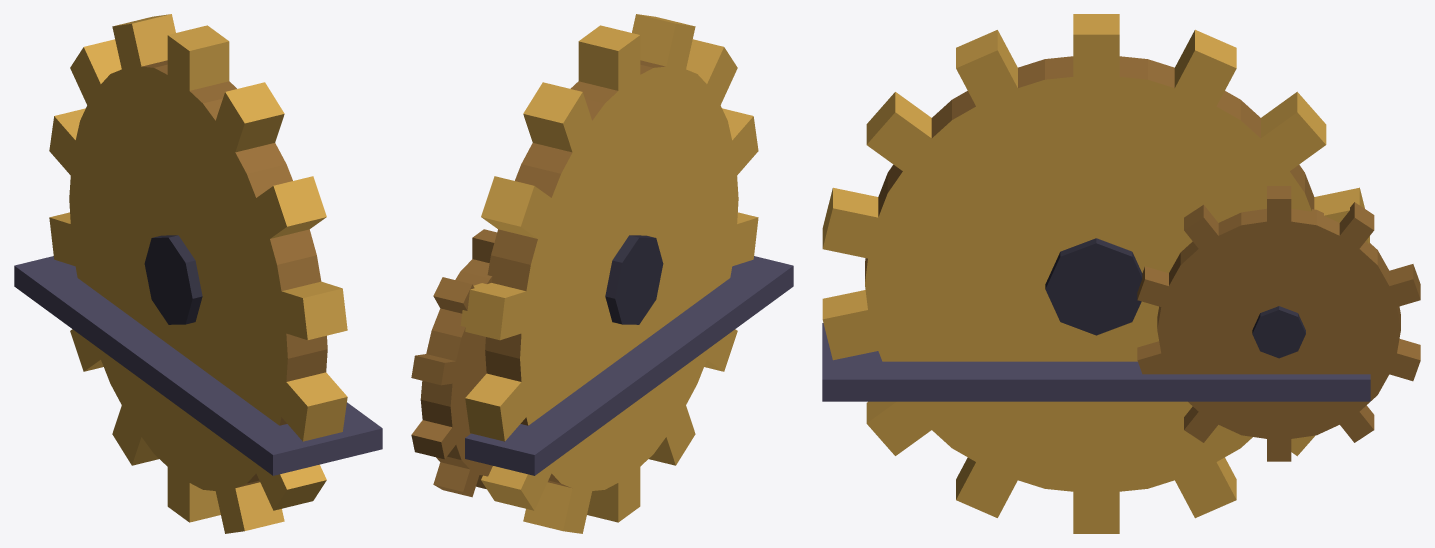
Rendered from Set_GearArch.fbx.
3 views of the same model, side by side, from view 1: azimuth 30°, elevation 25°; view 2: azimuth 150°, elevation 25°; view 3: azimuth 270°, elevation 25° (orthographic). The views are drawn at different scales.
Visible parts, largest first — view 1: Set_GearArch; view 2: Set_GearArch; view 3: Set_GearArch.
Part boxes in pixels (<box>): Set_GearArch: <box>14,14,382,533</box>; Set_GearArch: <box>411,14,793,533</box>; Set_GearArch: <box>822,14,1420,533</box>.
Size of what is drawn, in the model's own units: 2.2 by 9.04 by 9.83.
Materials: 1 (1 with a texture image).
